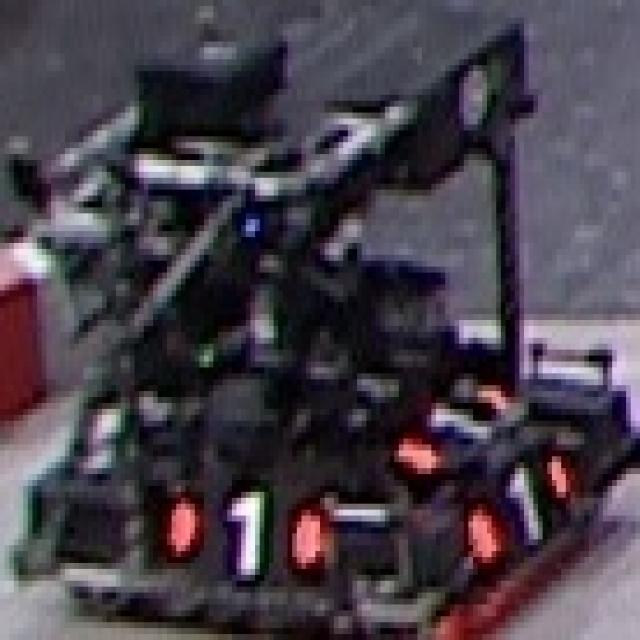R1: (380, 361, 515, 480), (172, 474, 324, 575), (464, 450, 575, 563)
